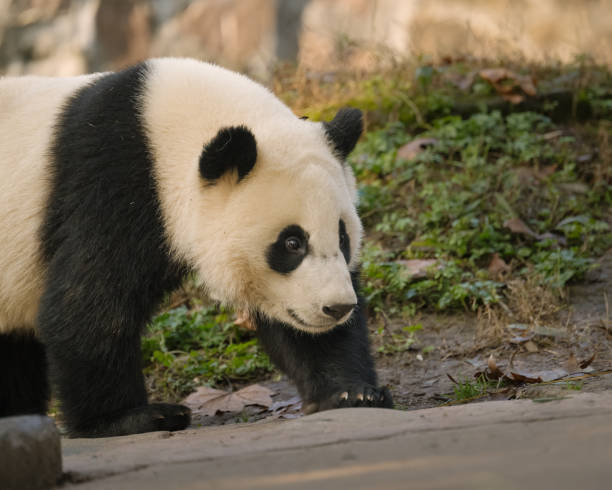panda: (157, 86, 402, 361)
